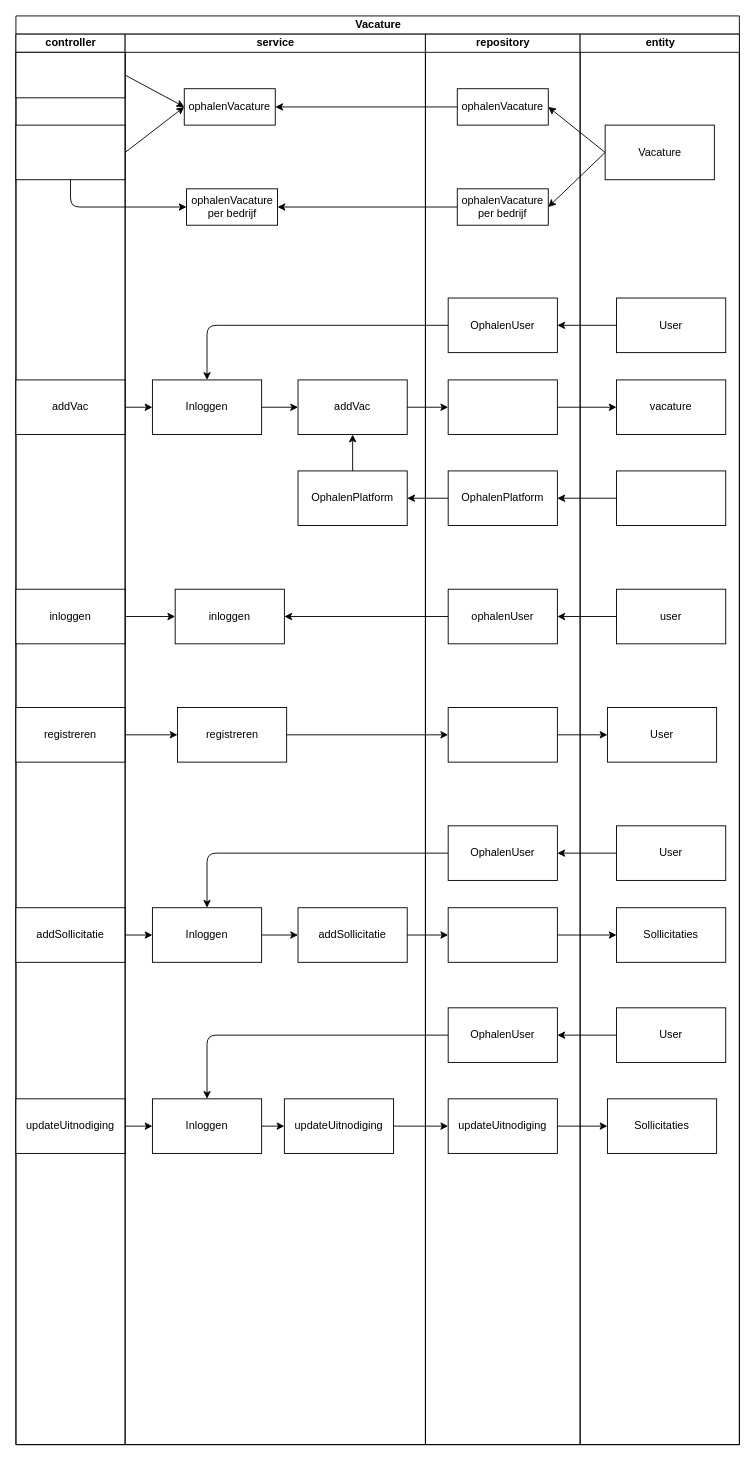
The diagram is 755 pixels wide and 1461 high, and some of its shapes have lost their labels. Each missing label, with the centre of its shape:
createSollicitatie: the point at 502,934
createUser: the point at 502,734
createVacature: the point at 502,407
Platform: the point at 671,498
VacatureDetail: the point at 70,152
VacatureHome: the point at 70,74
